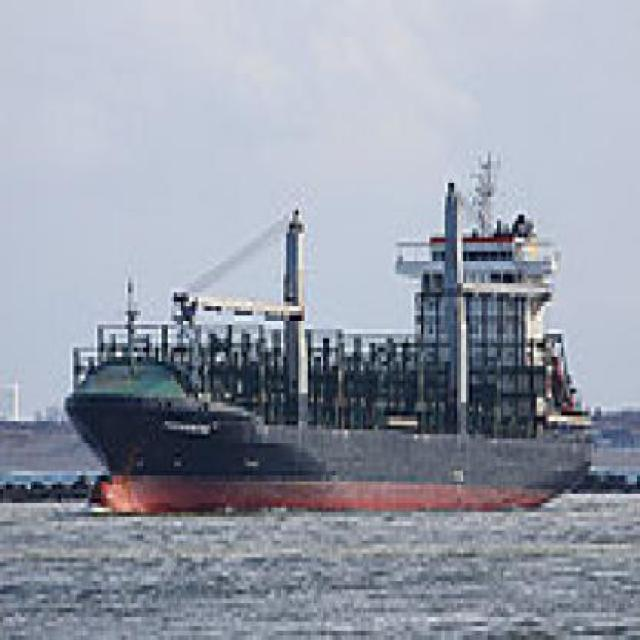container: (56, 147, 604, 527)
